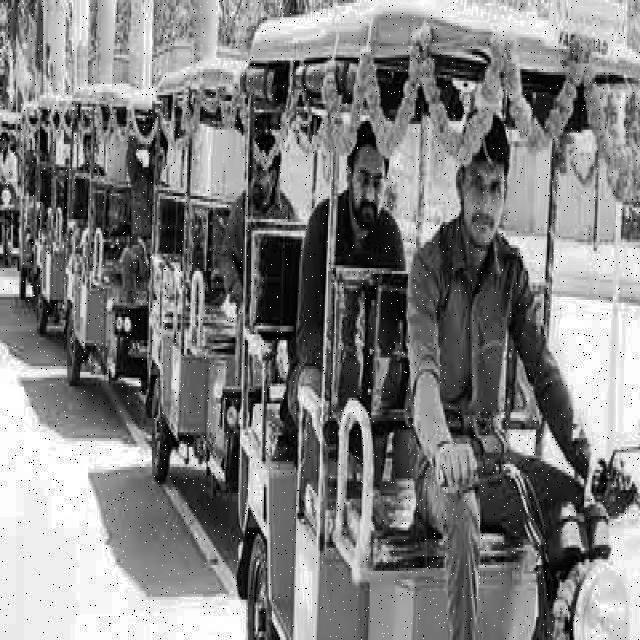Toto: (233, 0, 640, 640), (150, 56, 250, 478), (65, 81, 157, 390)
